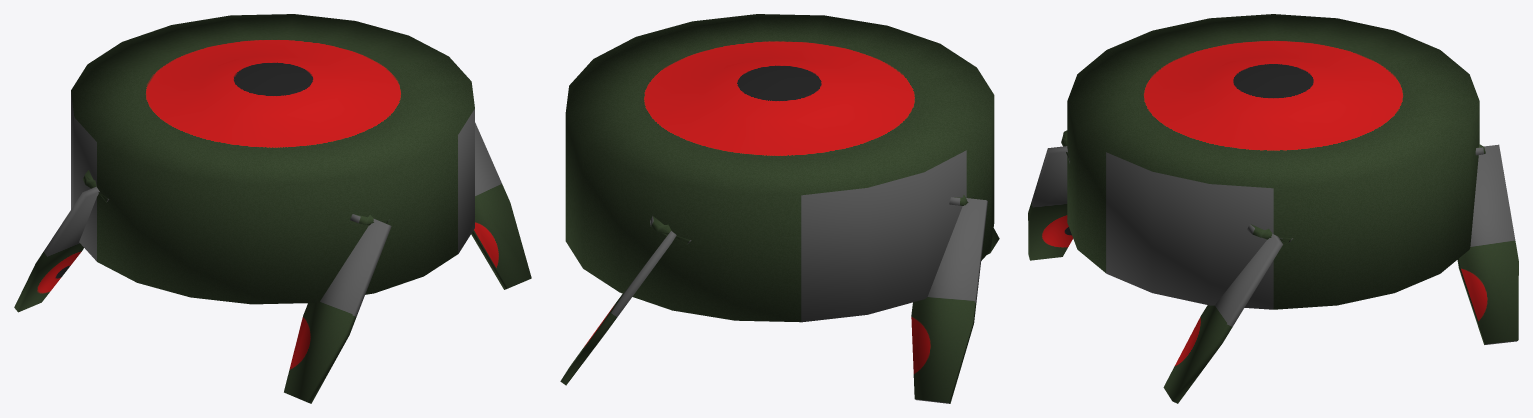
Rendered from Submunition_Mine.fbx.
3 renders of one model, left to right at view 1: azimuth 30°, elevation 25°; view 2: azimuth 150°, elevation 25°; view 3: azimuth 270°, elevation 25°, orthographic. The views are drawn at different scales.
Visible parts, largest first — view 1: Submunition_Mine, Mine_VaneFin_4, Mine_VaneFin_1, Mine_VaneFin_3; view 2: Submunition_Mine, Mine_VaneFin_3, Mine_VaneFin_2; view 3: Submunition_Mine, Mine_VaneFin_2, Mine_VaneFin_1, Mine_VaneFin_4.
Part boxes in pixels (left/top/right/bottom): Submunition_Mine: left=71, top=14, right=474, bottom=304; Mine_VaneFin_4: left=284, top=214, right=391, bottom=403; Mine_VaneFin_1: left=471, top=122, right=531, bottom=289; Mine_VaneFin_3: left=14, top=170, right=108, bottom=312; Submunition_Mine: left=565, top=14, right=994, bottom=322; Mine_VaneFin_3: left=911, top=195, right=987, bottom=403; Mine_VaneFin_2: left=560, top=216, right=691, bottom=385; Submunition_Mine: left=1067, top=14, right=1479, bottom=309; Mine_VaneFin_2: left=1457, top=144, right=1518, bottom=344; Mine_VaneFin_1: left=1163, top=224, right=1292, bottom=403; Mine_VaneFin_4: left=1028, top=130, right=1072, bottom=260.
Bounding box in the file's own units: 0.1904 × 0.0976 × 0.1904.
3 materials, 3 textured.
